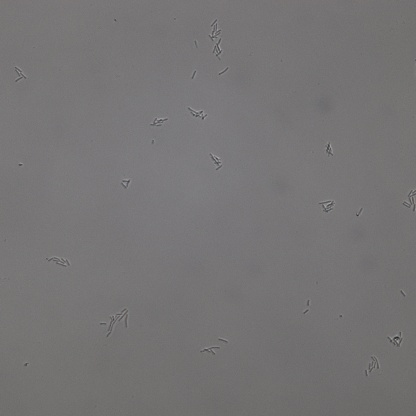R(colony): (100, 306, 130, 338), (401, 188, 416, 213), (208, 18, 223, 42), (364, 356, 381, 377), (46, 255, 71, 269), (318, 199, 335, 216), (212, 38, 225, 60), (209, 153, 224, 172), (188, 106, 207, 121), (387, 332, 404, 348), (150, 116, 169, 128), (200, 346, 220, 355), (15, 66, 26, 82), (325, 142, 333, 156), (121, 178, 131, 188)
